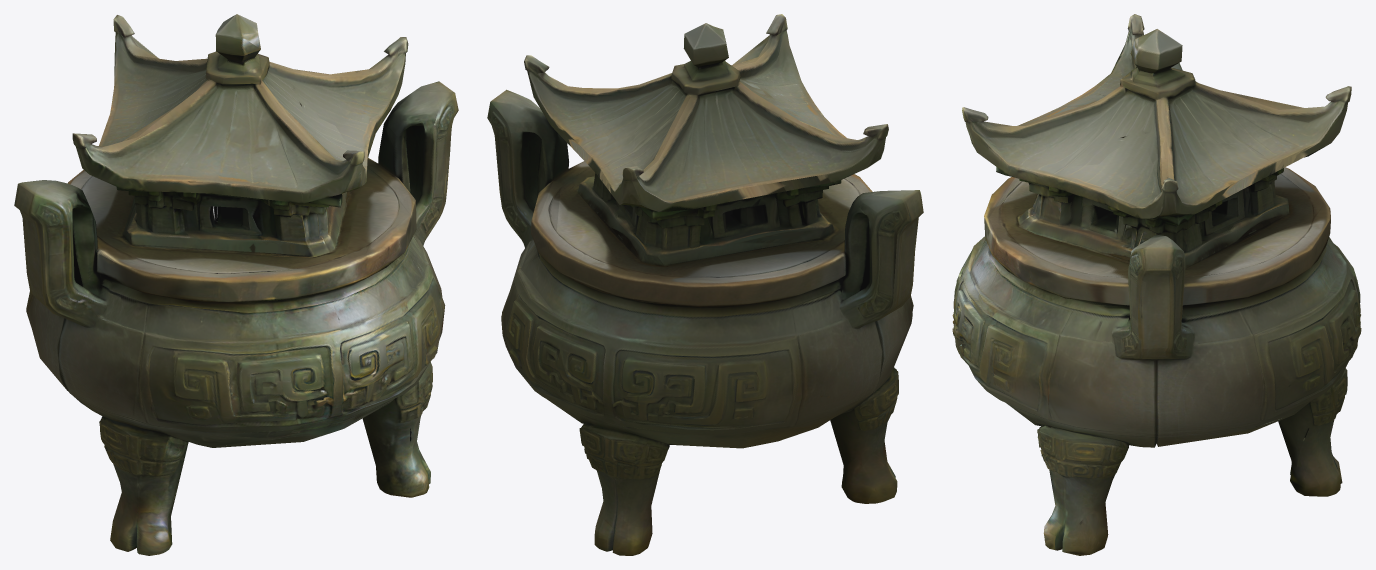
The model's file is censer.glb.
3 renders of one model, left to right at view 1: azimuth 30°, elevation 25°; view 2: azimuth 150°, elevation 25°; view 3: azimuth 270°, elevation 25°, orthographic. The views are drawn at different scales.
Visible parts, largest first — view 1: model; view 2: model; view 3: model.
Part boxes in pixels (x1=…): model: x1=14, y1=14, x2=458, y2=555; model: x1=487, y1=14, x2=923, y2=555; model: x1=952, y1=14, x2=1361, y2=555.
Size of the model in its own units: 1.82 by 1.9 by 1.54.
1 material, 1 textured.
